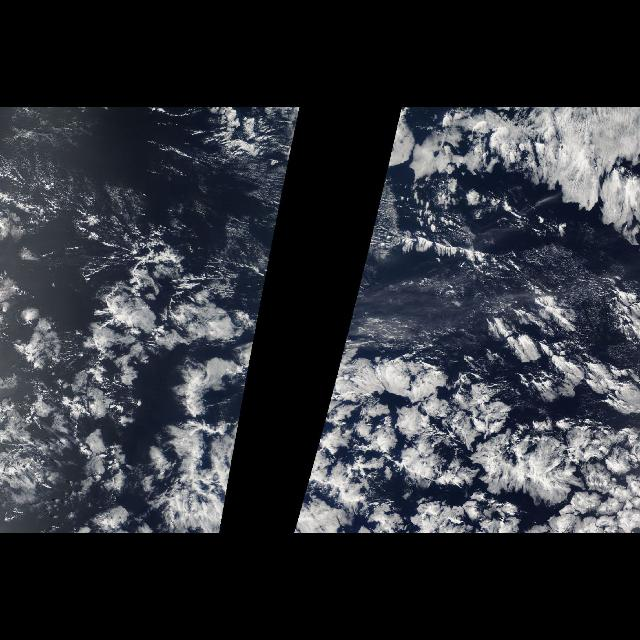Flower: (292, 116, 640, 534), (61, 116, 299, 532)
Sugar: (15, 107, 187, 257)
